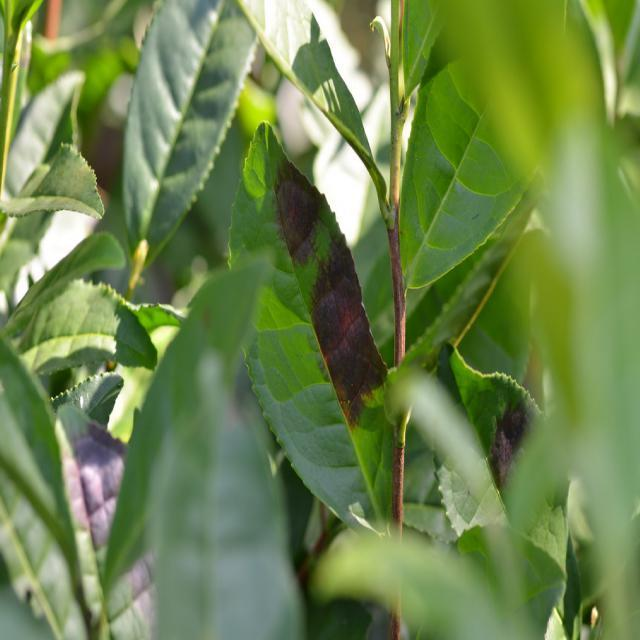Tea exobasidium blight: (276, 180, 386, 403)
